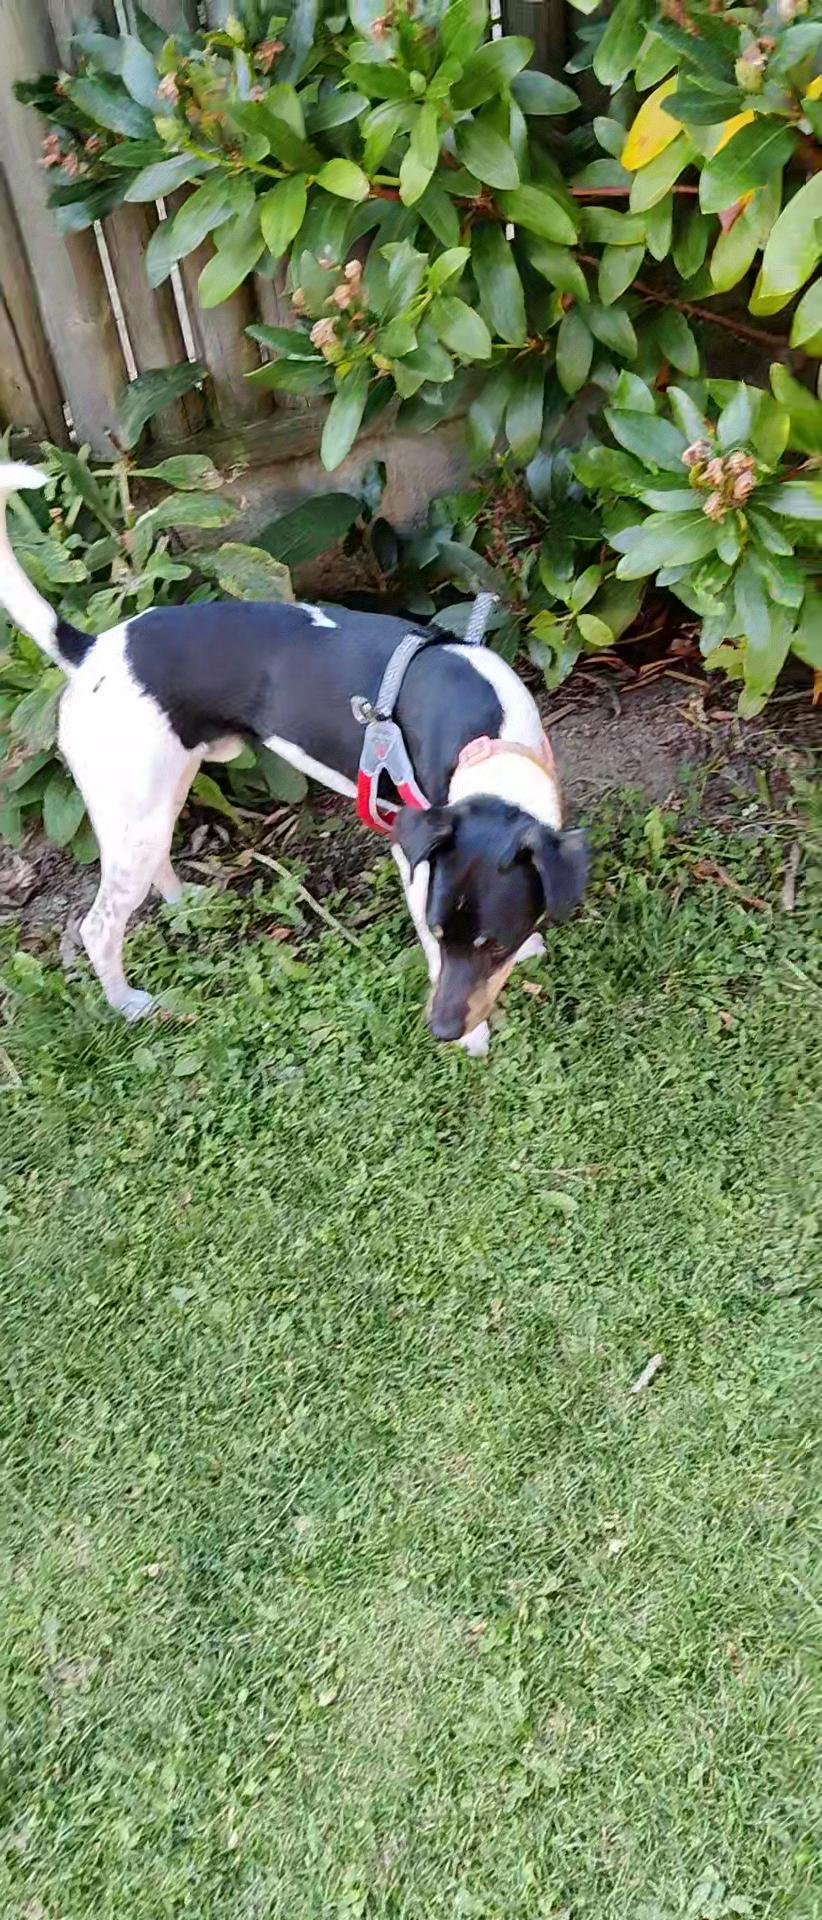Dog: (0, 448, 604, 1074)
